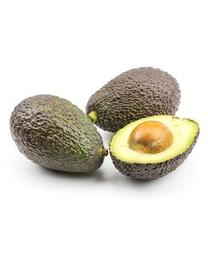avocado: (8, 94, 108, 174), (86, 67, 182, 136), (110, 113, 200, 182)
